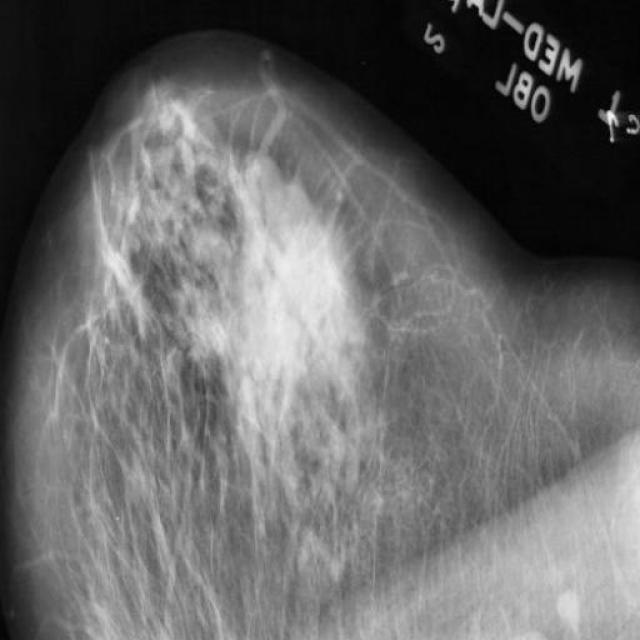cancer: (290, 278, 336, 372)
